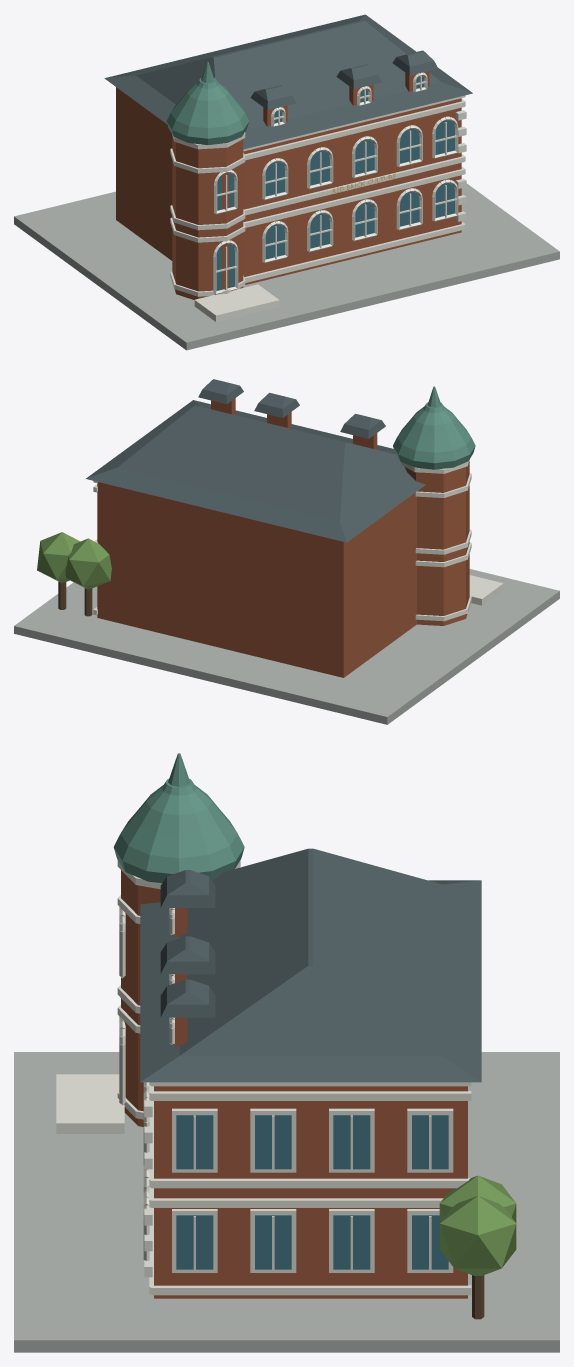
3 views of the same model, one above another, from view 1: azimuth 30°, elevation 25°; view 2: azimuth 150°, elevation 25°; view 3: azimuth 270°, elevation 25° (orthographic). The views are drawn at different scales.
Parts seen in each view (by area): view 1: fukuoka-red-brick-culture-museum; view 2: fukuoka-red-brick-culture-museum; view 3: fukuoka-red-brick-culture-museum.
Part boxes in pixels (x1,y1,x2,y2): fukuoka-red-brick-culture-museum: (14,14,559,350); fukuoka-red-brick-culture-museum: (14,379,559,724); fukuoka-red-brick-culture-museum: (14,753,559,1352).
Bounding box in the file's own units: 10 × 5.94 × 8.
